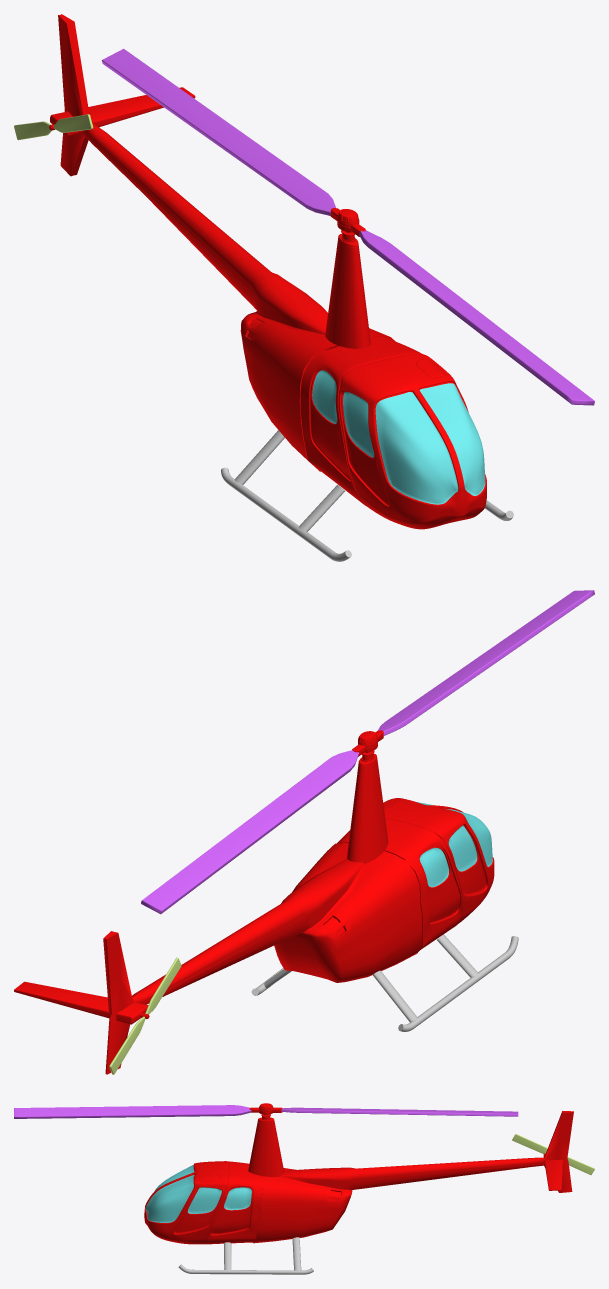
File: Helicopter.fbx
The picture shows the model from 3 angles, top to bottom: view 1: azimuth 30°, elevation 25°; view 2: azimuth 150°, elevation 25°; view 3: azimuth 270°, elevation 25°; orthographic projection. The views are drawn at different scales.
Parts seen in each view (by area): view 1: Object004, Cabina, Eliche, Motore, PortaElicaPiccola, Line001, Line002; view 2: Cabina, Object004, Eliche, Motore, PortaElicaPiccola, Line001, Line002; view 3: Cabina, Object004, Eliche, Motore, Line001, PortaElicaPiccola, Line002, Plane004.
Boxes of the visible parts, x1,y1,x2,y2 form: Object004: (300, 337, 486, 529); Cabina: (58, 14, 395, 471); Eliche: (101, 48, 594, 405); Motore: (325, 208, 370, 348); PortaElicaPiccola: (49, 87, 195, 136); Line001: (221, 467, 513, 561); Line002: (234, 430, 344, 531); Cabina: (103, 842, 422, 1074); Object004: (337, 798, 494, 949); Eliche: (141, 590, 594, 914); Motore: (347, 730, 388, 863); PortaElicaPiccola: (14, 981, 149, 1024); Line001: (251, 936, 518, 1031); Line002: (264, 934, 478, 1022); Cabina: (252, 1111, 573, 1243); Object004: (144, 1161, 261, 1244); Eliche: (14, 1105, 518, 1118); Motore: (248, 1103, 284, 1176); Line001: (178, 1264, 313, 1274); PortaElicaPiccola: (543, 1153, 562, 1190); Line002: (224, 1237, 301, 1270); Plane004: (512, 1134, 547, 1153).
Size of the model in its own units: 25.37 by 33.71 by 120.
